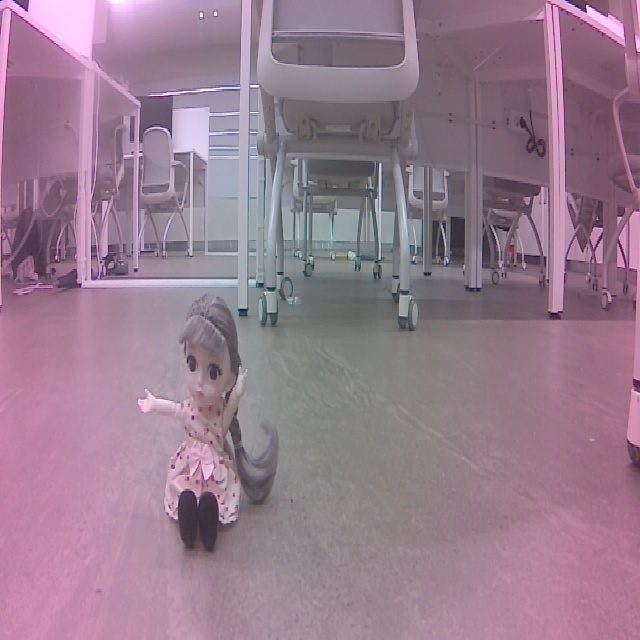장애물: (130, 289, 286, 560)
